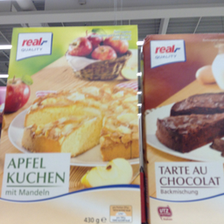cake: (1, 24, 143, 224), (145, 30, 224, 223)
